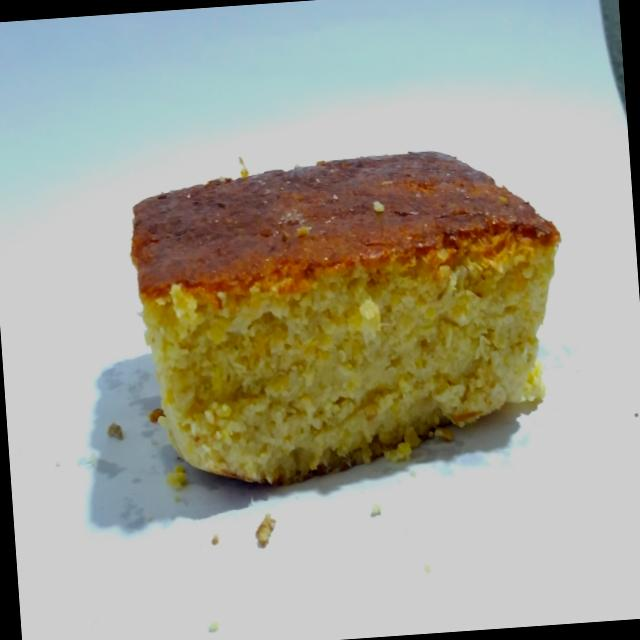Chipa_Guazu: (116, 120, 582, 502)
